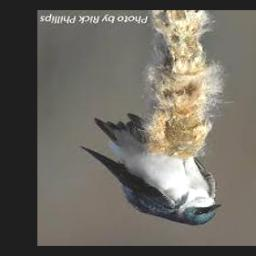Swallow: (80, 114, 225, 227)
